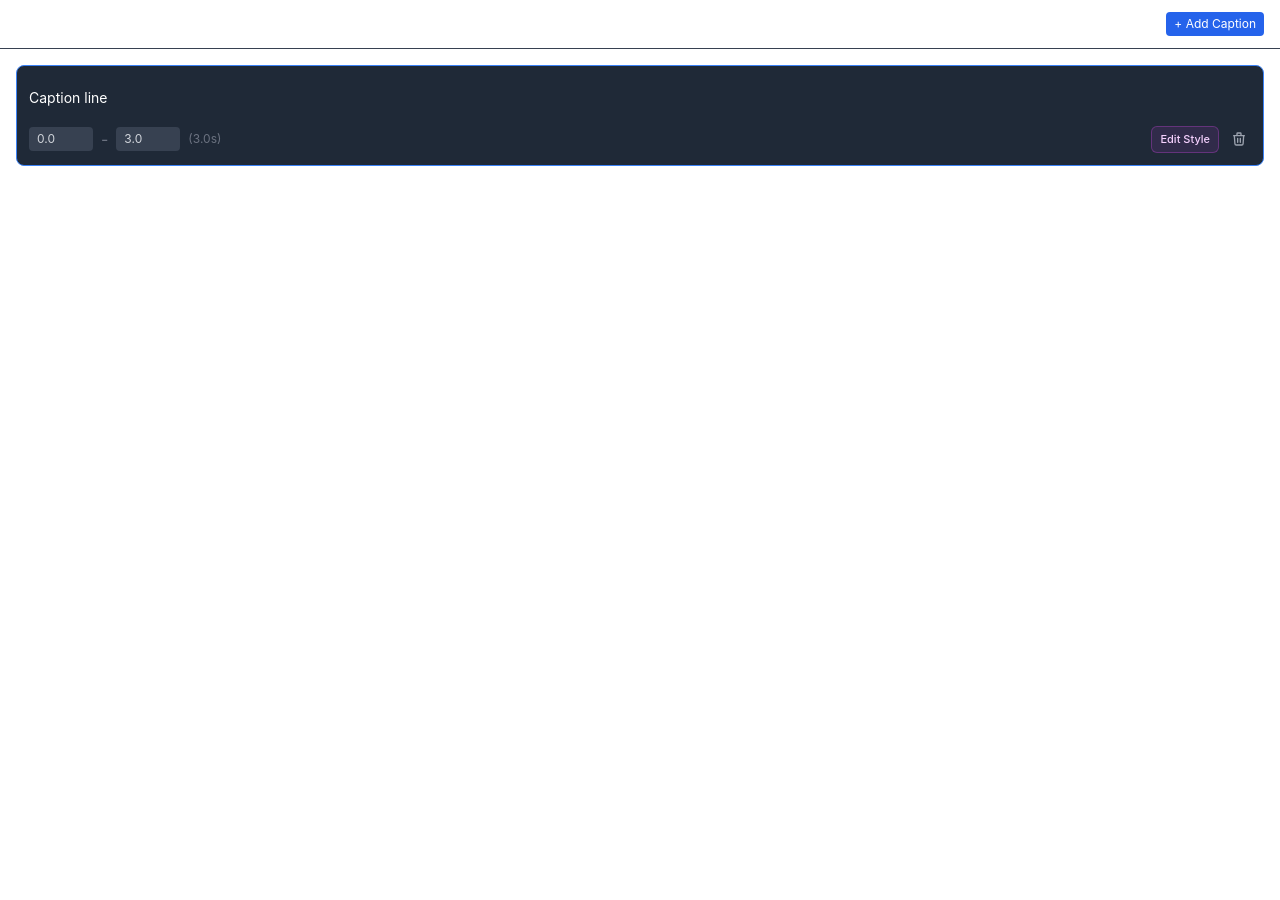
Scenario: CaptionsPanel › shows rich caption style controls inside the captions panel
Click the button "Edit Style": (1185, 139) x1=1151 y1=126 x2=1219 y2=152
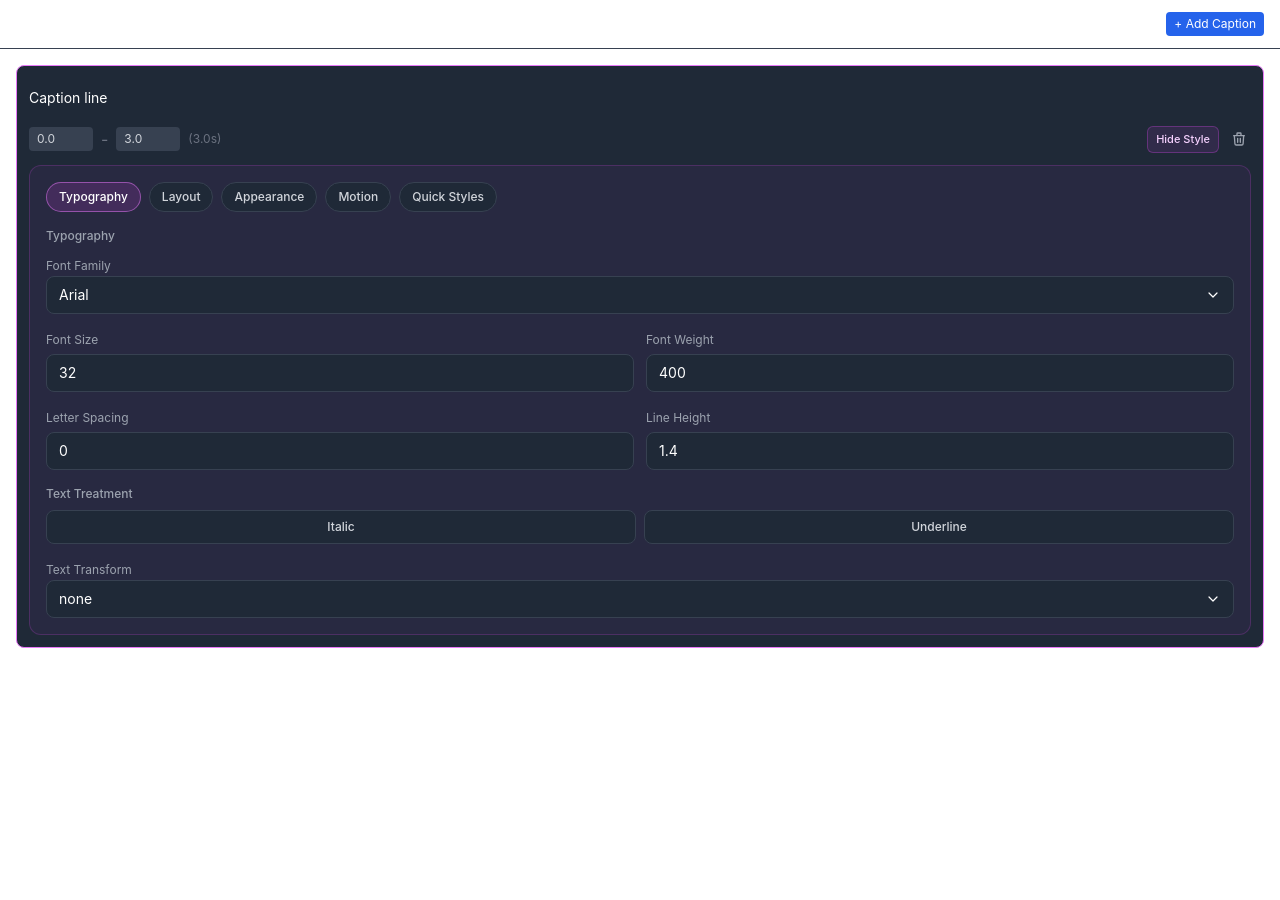
Check: the button "Typography" is shown, box x1=46 y1=182 x2=141 y2=212
Check: the number field labelled "Letter Spacing" is shown, box x1=46 y1=432 x2=634 y2=470
